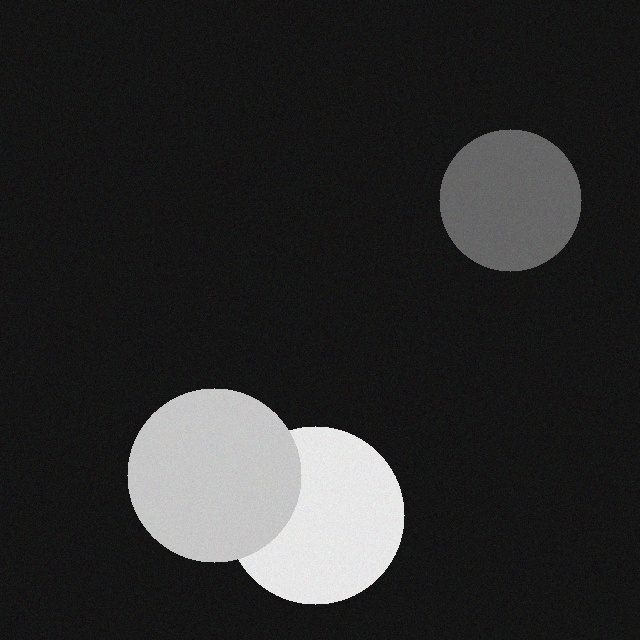circle: (223, 422, 401, 600), (124, 384, 298, 558), (436, 125, 578, 267)
